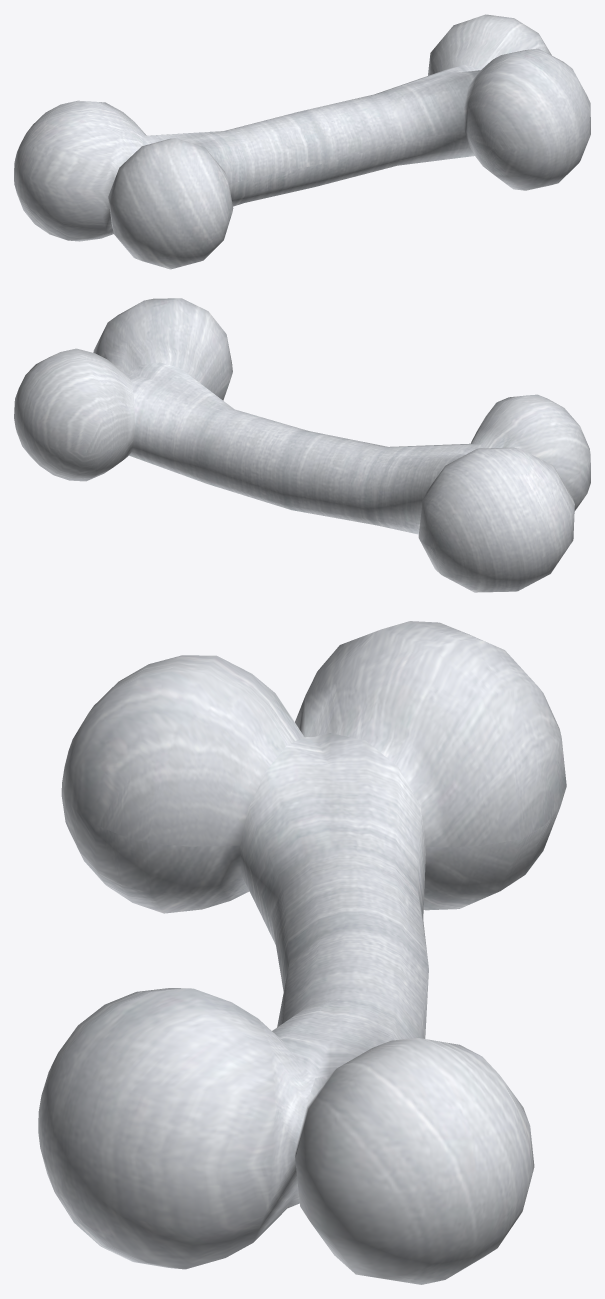
3 views of the same model, one above another, from view 1: azimuth 30°, elevation 25°; view 2: azimuth 150°, elevation 25°; view 3: azimuth 270°, elevation 25° (orthographic). The views are drawn at different scales.
Parts seen in each view (by area): view 1: nonoss; view 2: nonoss; view 3: nonoss.
Boxes of the visible parts, bbox=[...] form: nonoss: bbox=[14, 14, 590, 269]; nonoss: bbox=[14, 298, 590, 592]; nonoss: bbox=[38, 621, 566, 1284].
Size of the model in its own units: 90.17 by 22.26 by 39.59.
